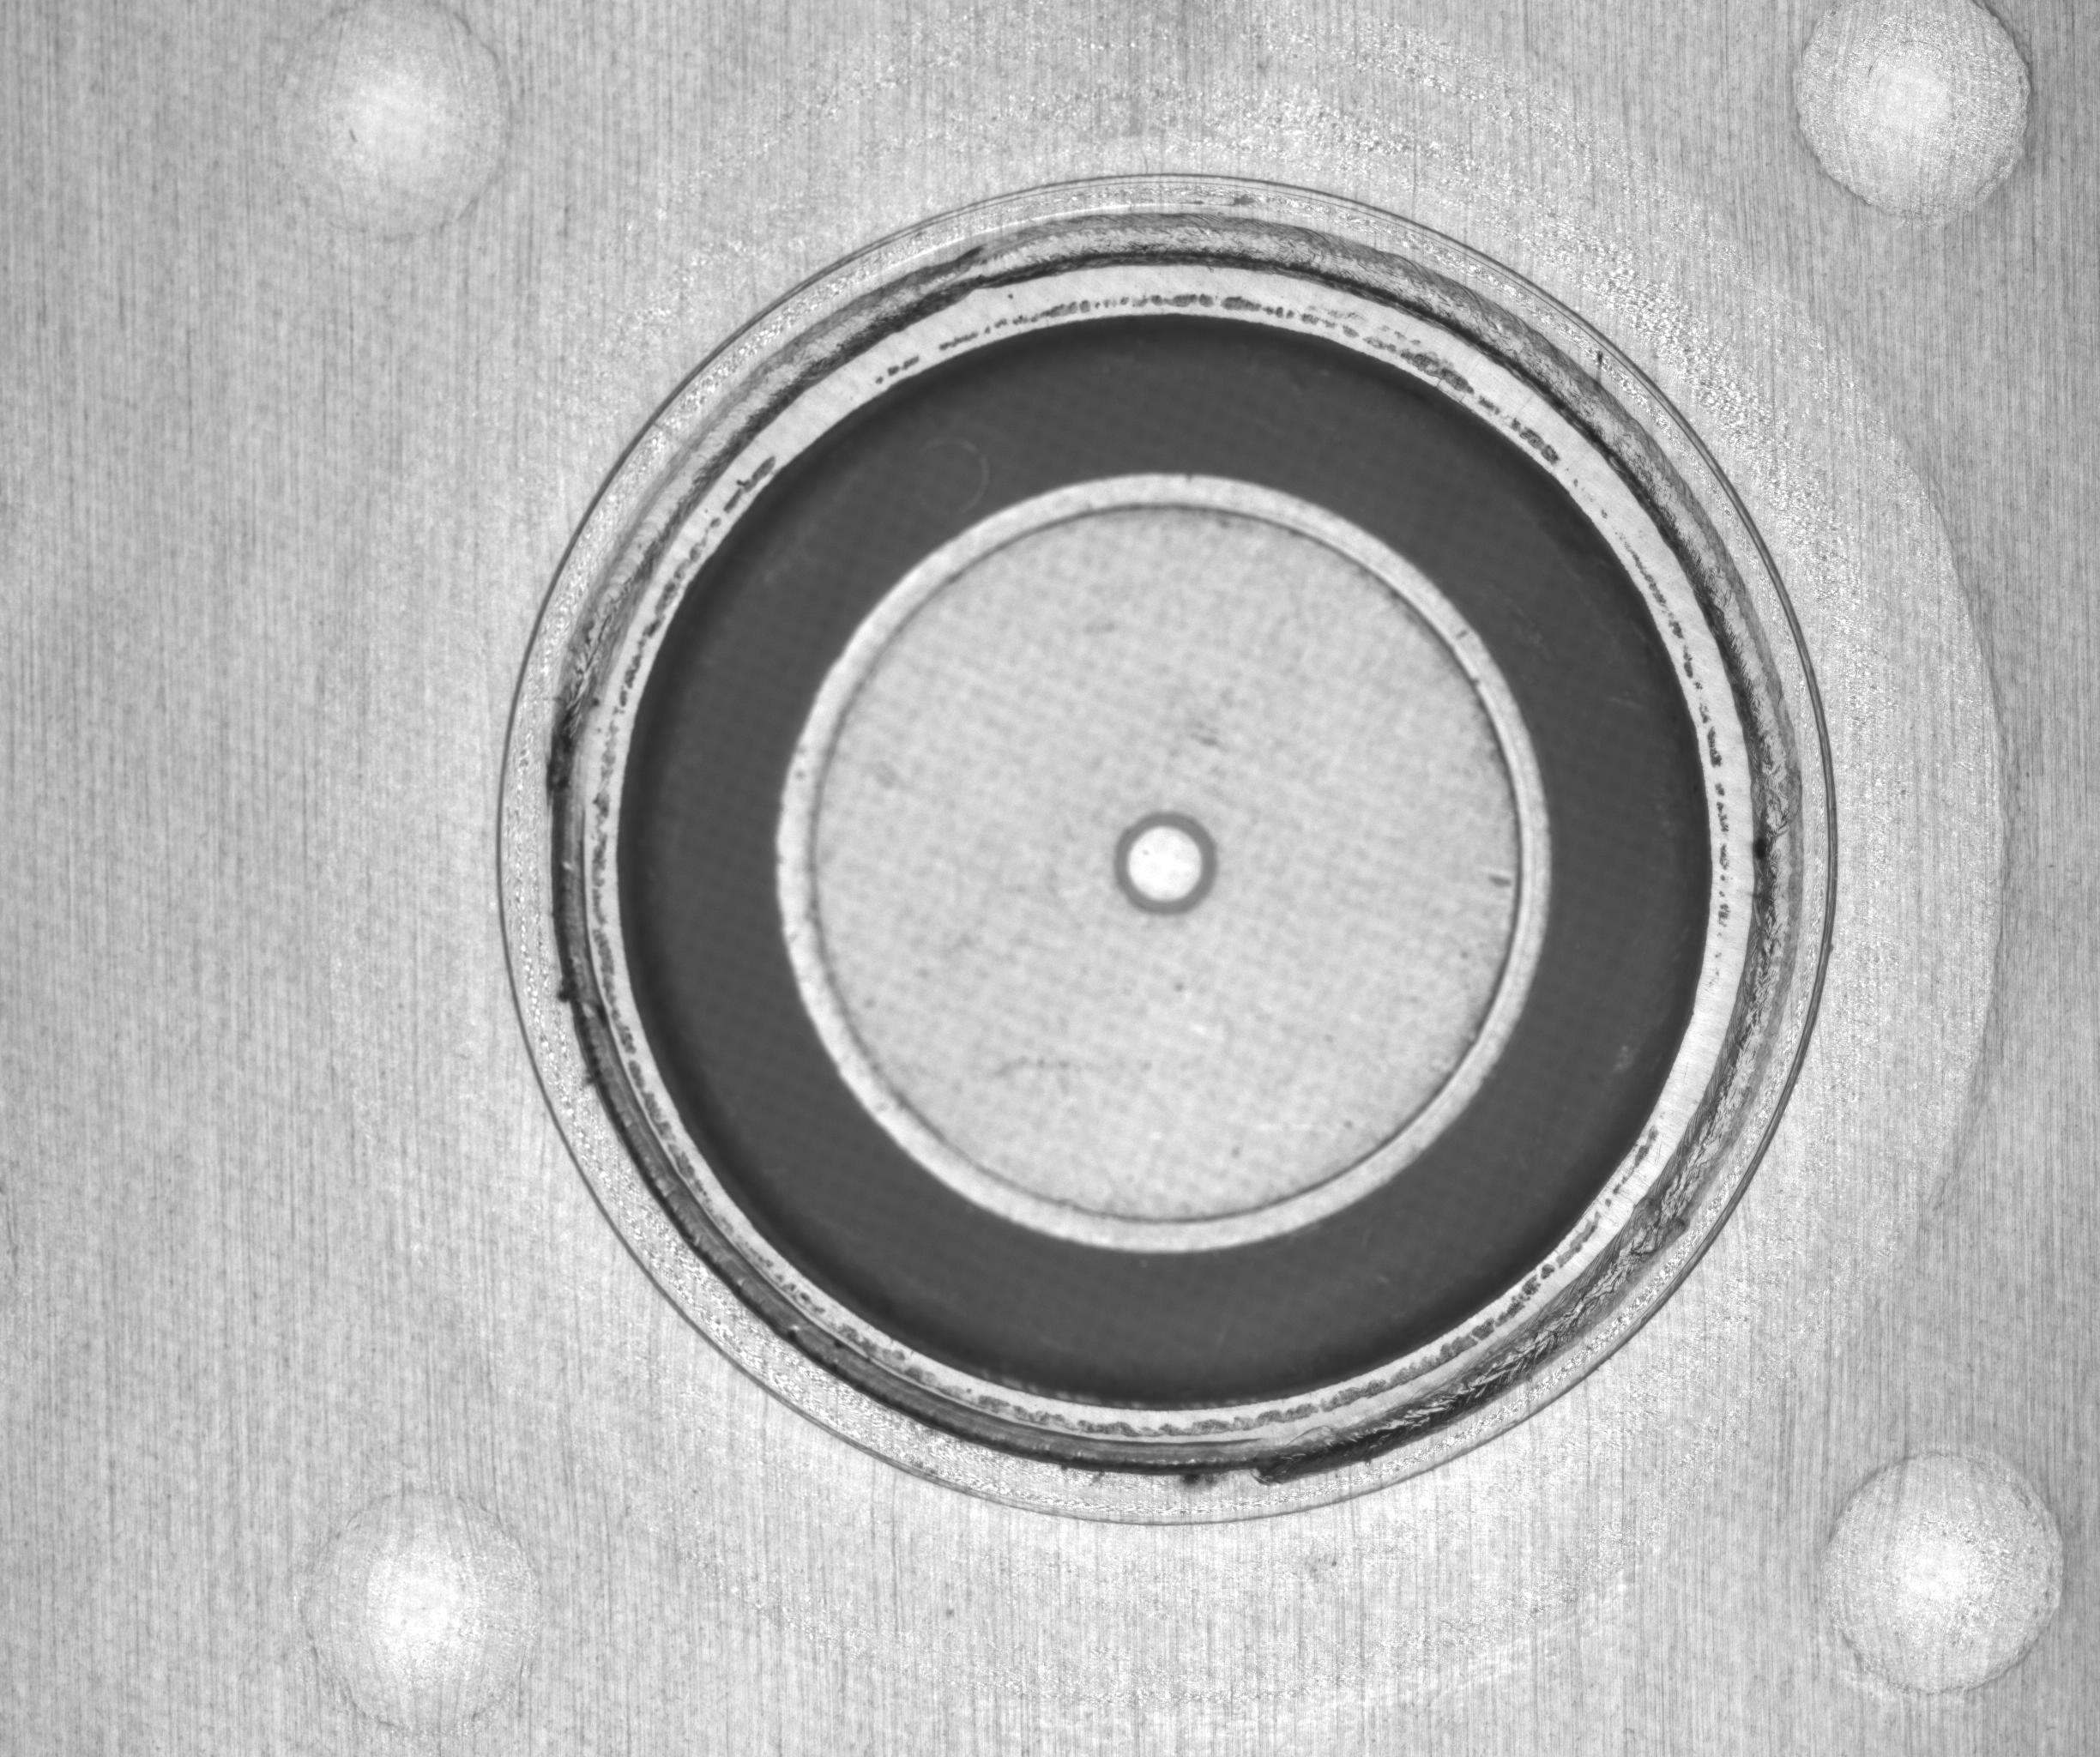lackofweld: (525, 797, 1272, 1511)
